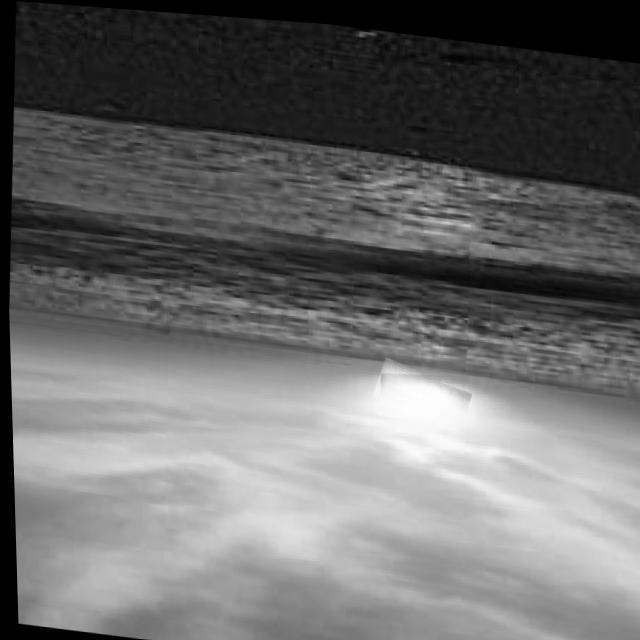sun: (378, 366, 466, 417)
